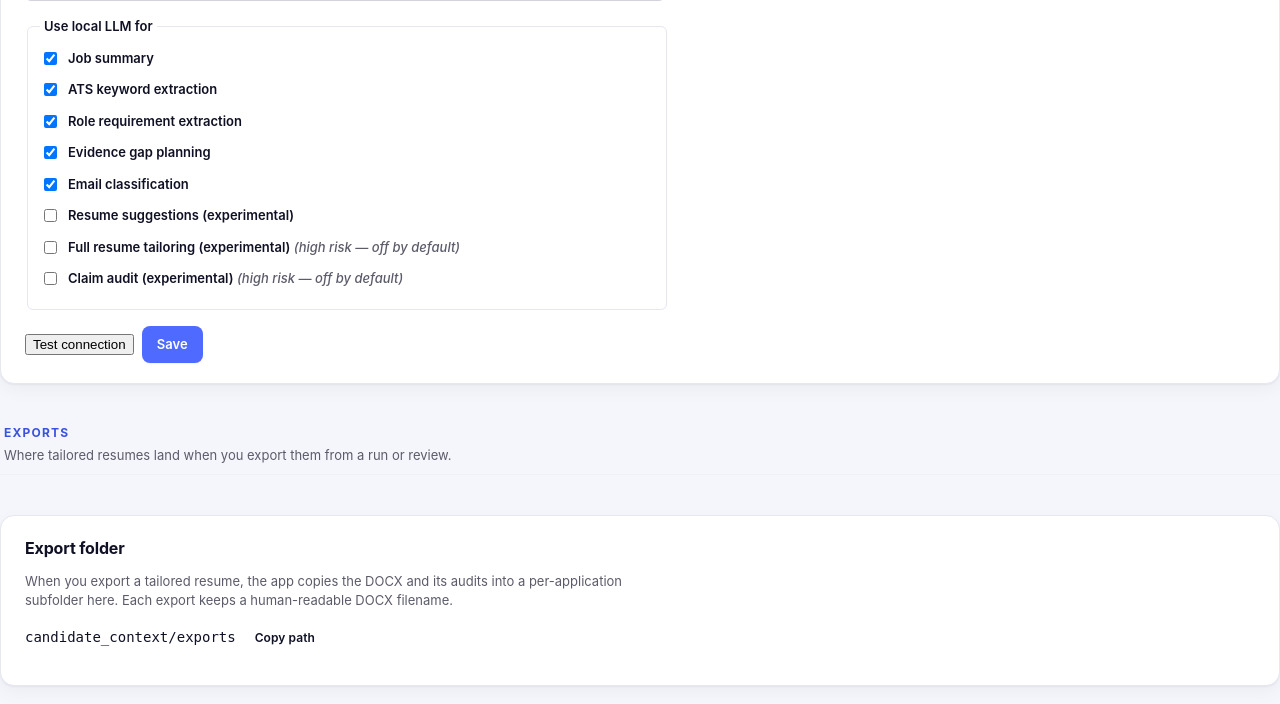
Test case: SettingsPage – Local LLM card › shows the context warning when the test cannot verify the context
(page scrolled)
Click the button "Test connection" at [79, 344], box [25, 334, 134, 355]
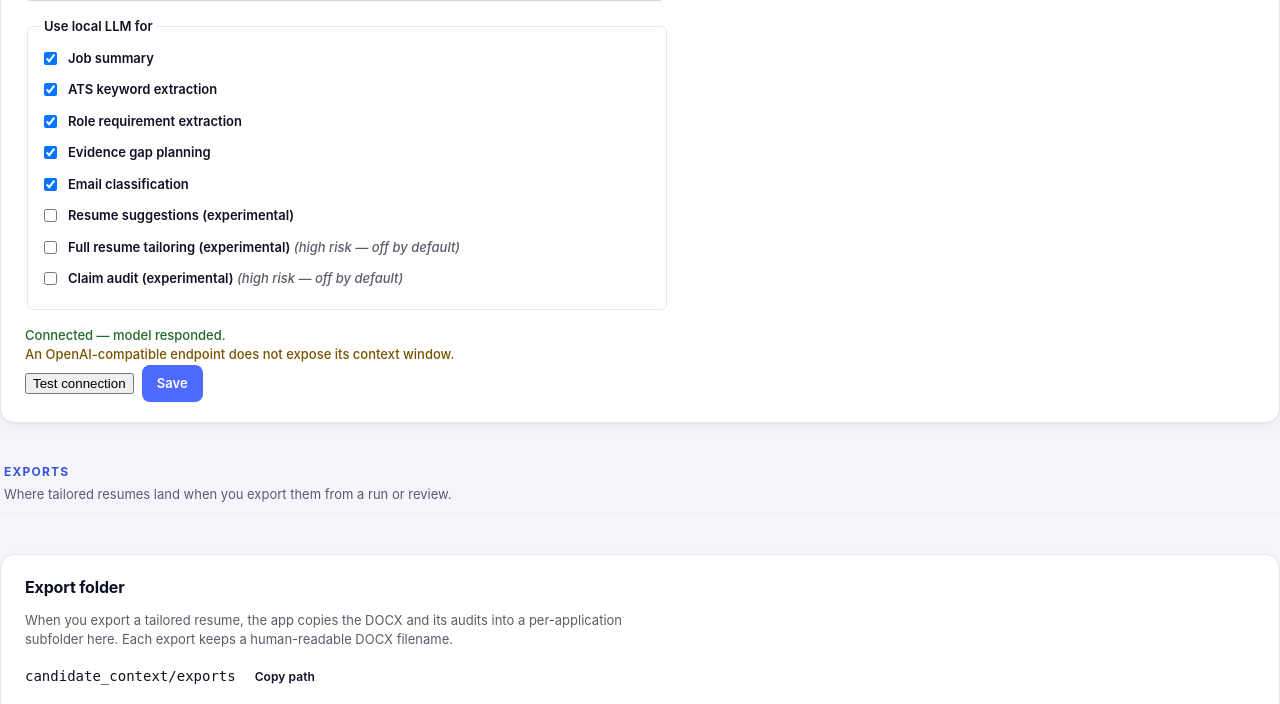
Now the message with test id "server-context-warning" shows "does not expose its context window", box [25, 346, 454, 362]
